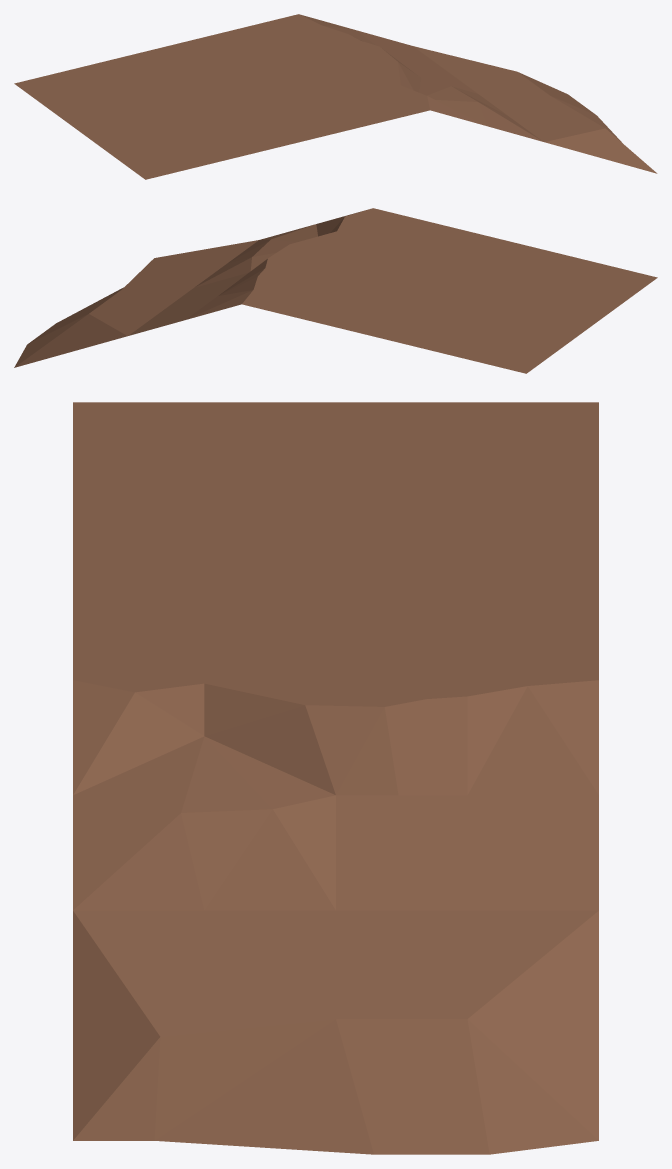
The model's file is terrain_4.FBX.
3 views of the same model, one above another, from view 1: azimuth 30°, elevation 25°; view 2: azimuth 150°, elevation 25°; view 3: azimuth 270°, elevation 25° (orthographic). The views are drawn at different scales.
Parts seen in each view (by area): view 1: terrain_4; view 2: terrain_4; view 3: terrain_4.
Part boxes in pixels (x1=…): terrain_4: x1=14, y1=14, x2=657, y2=179; terrain_4: x1=14, y1=208, x2=657, y2=373; terrain_4: x1=73, y1=402, x2=598, y2=1154.
Size of the model in its own units: 717 by 155 by 310.
